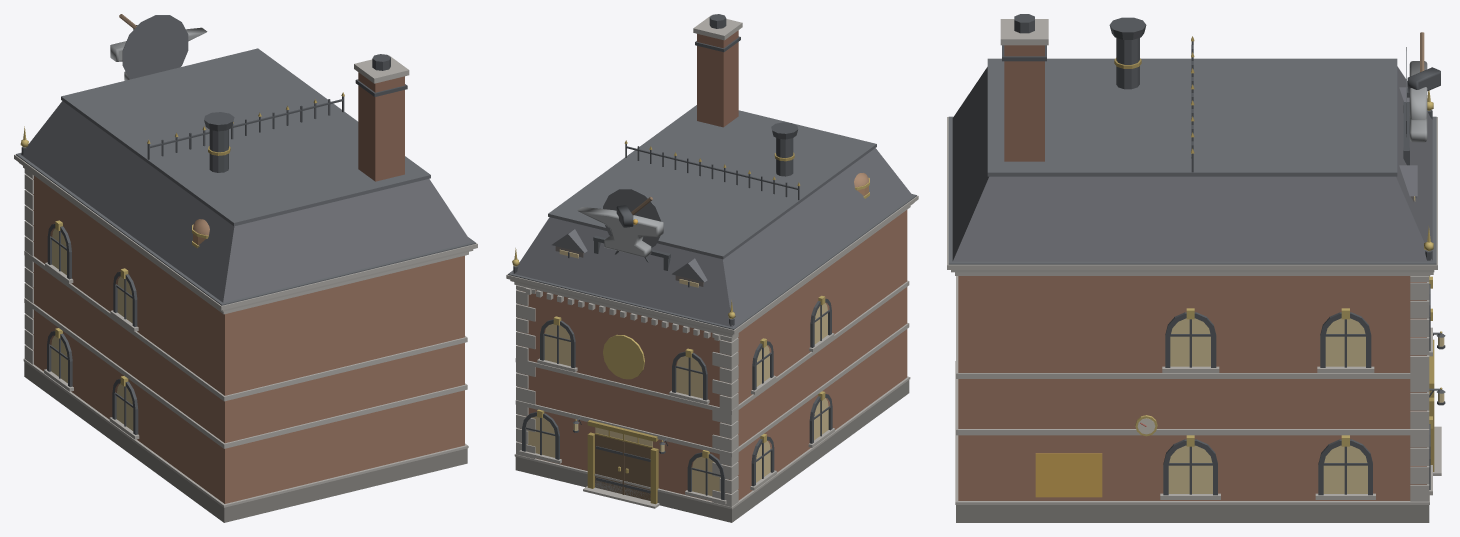
File: centro-forja-10b7bcfd.glb
3 renders of one model, left to right at view 1: azimuth 30°, elevation 25°; view 2: azimuth 150°, elevation 25°; view 3: azimuth 270°, elevation 25°, orthographic. The views are drawn at different scales.
Visible parts, largest first — view 1: centro_forja_body, centro_forja_wall, centro_forja_lamp; view 2: centro_forja_body, centro_forja_wall, centro_forja_lamp, centro_forja_glow; view 3: centro_forja_body, centro_forja_wall, centro_forja_lamp, centro_forja_glow.
Part boxes in pixels (<box>): centro_forja_body: <box>14,14,477,507</box>; centro_forja_wall: <box>24,72,467,522</box>; centro_forja_lamp: <box>51,228,133,430</box>; centro_forja_body: <box>506,14,918,509</box>; centro_forja_wall: <box>515,30,909,522</box>; centro_forja_lamp: <box>526,249,828,495</box>; centro_forja_glow: <box>577,205,663,257</box>; centro_forja_body: <box>947,14,1445,504</box>; centro_forja_wall: <box>956,45,1429,522</box>; centro_forja_lamp: <box>1168,196,1444,493</box>; centro_forja_glow: <box>1035,61,1440,497</box>.
Size of the model in its own units: 9.5 by 14.1 by 13.51.
